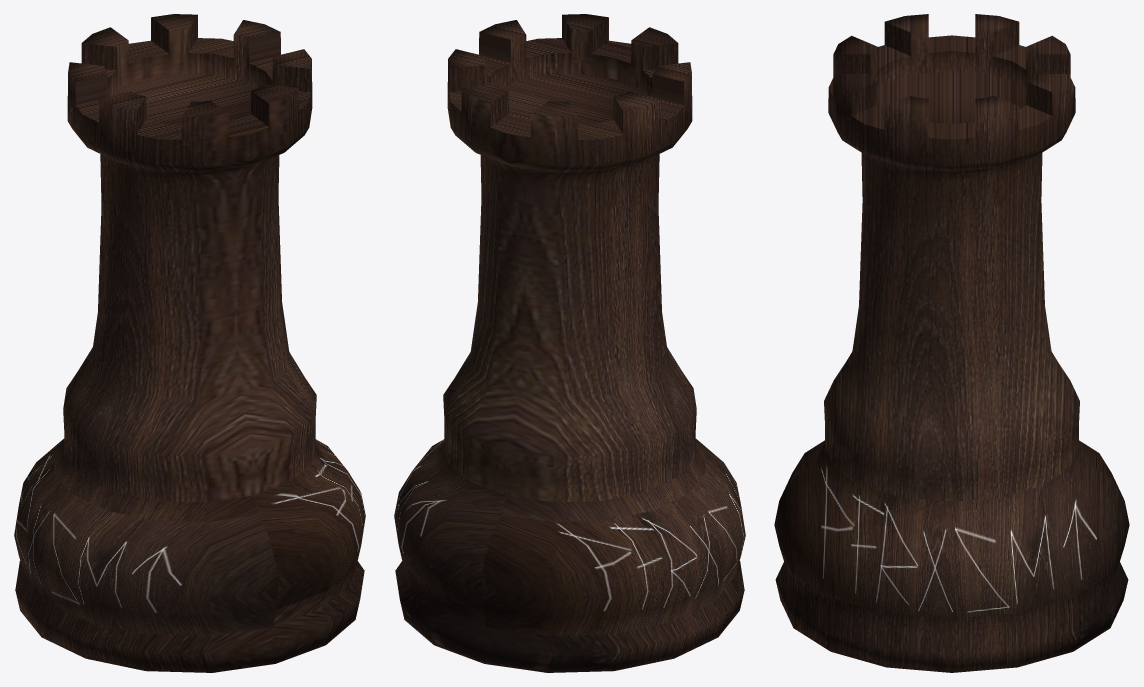
File: Torre2.fbx
3 views of the same model, side by side, from view 1: azimuth 30°, elevation 25°; view 2: azimuth 150°, elevation 25°; view 3: azimuth 270°, elevation 25° (orthographic).
Parts seen in each view (by area): view 1: Torre; view 2: Torre; view 3: Torre.
Part boxes in pixels (left/top/right/bottom): Torre: left=14, top=14, right=365, bottom=672; Torre: left=394, top=14, right=745, bottom=672; Torre: left=774, top=14, right=1129, bottom=672.
Bounding box in the file's own units: 63.09 × 106 × 63.09.
Materials: 2 (2 with a texture image).
